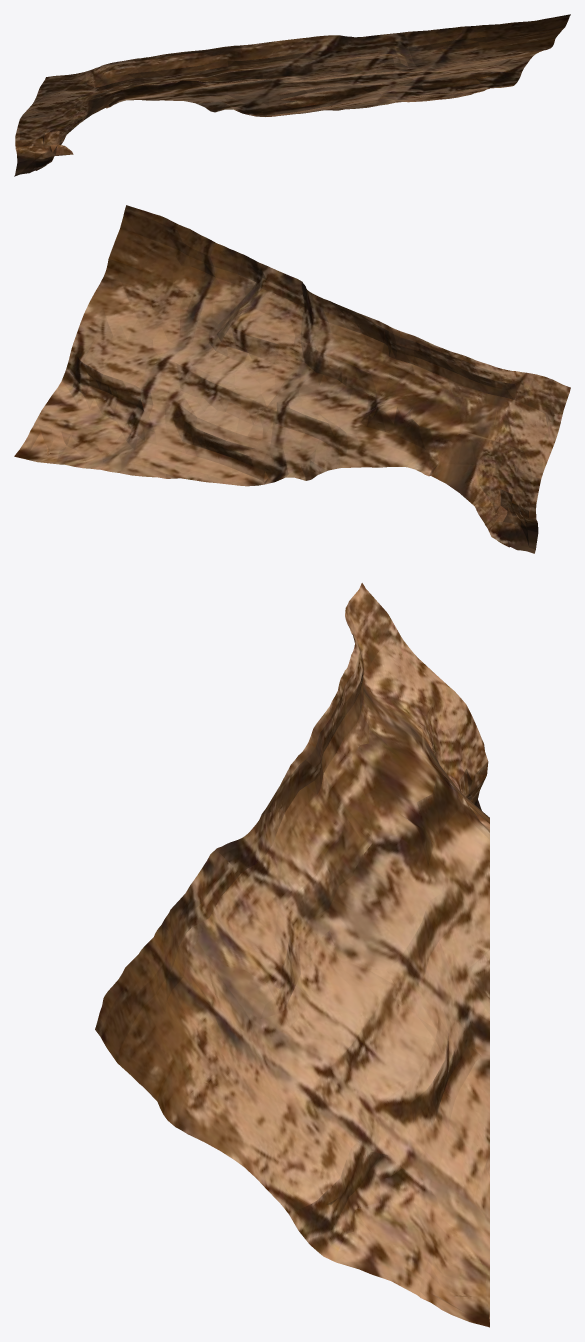
3 views of the same model, one above another, from view 1: azimuth 30°, elevation 25°; view 2: azimuth 150°, elevation 25°; view 3: azimuth 270°, elevation 25° (orthographic). The views are drawn at different scales.
Size of the model in its own units: 1.04 by 0.3248 by 0.3902.
Materials: 1 (1 with a texture image).
